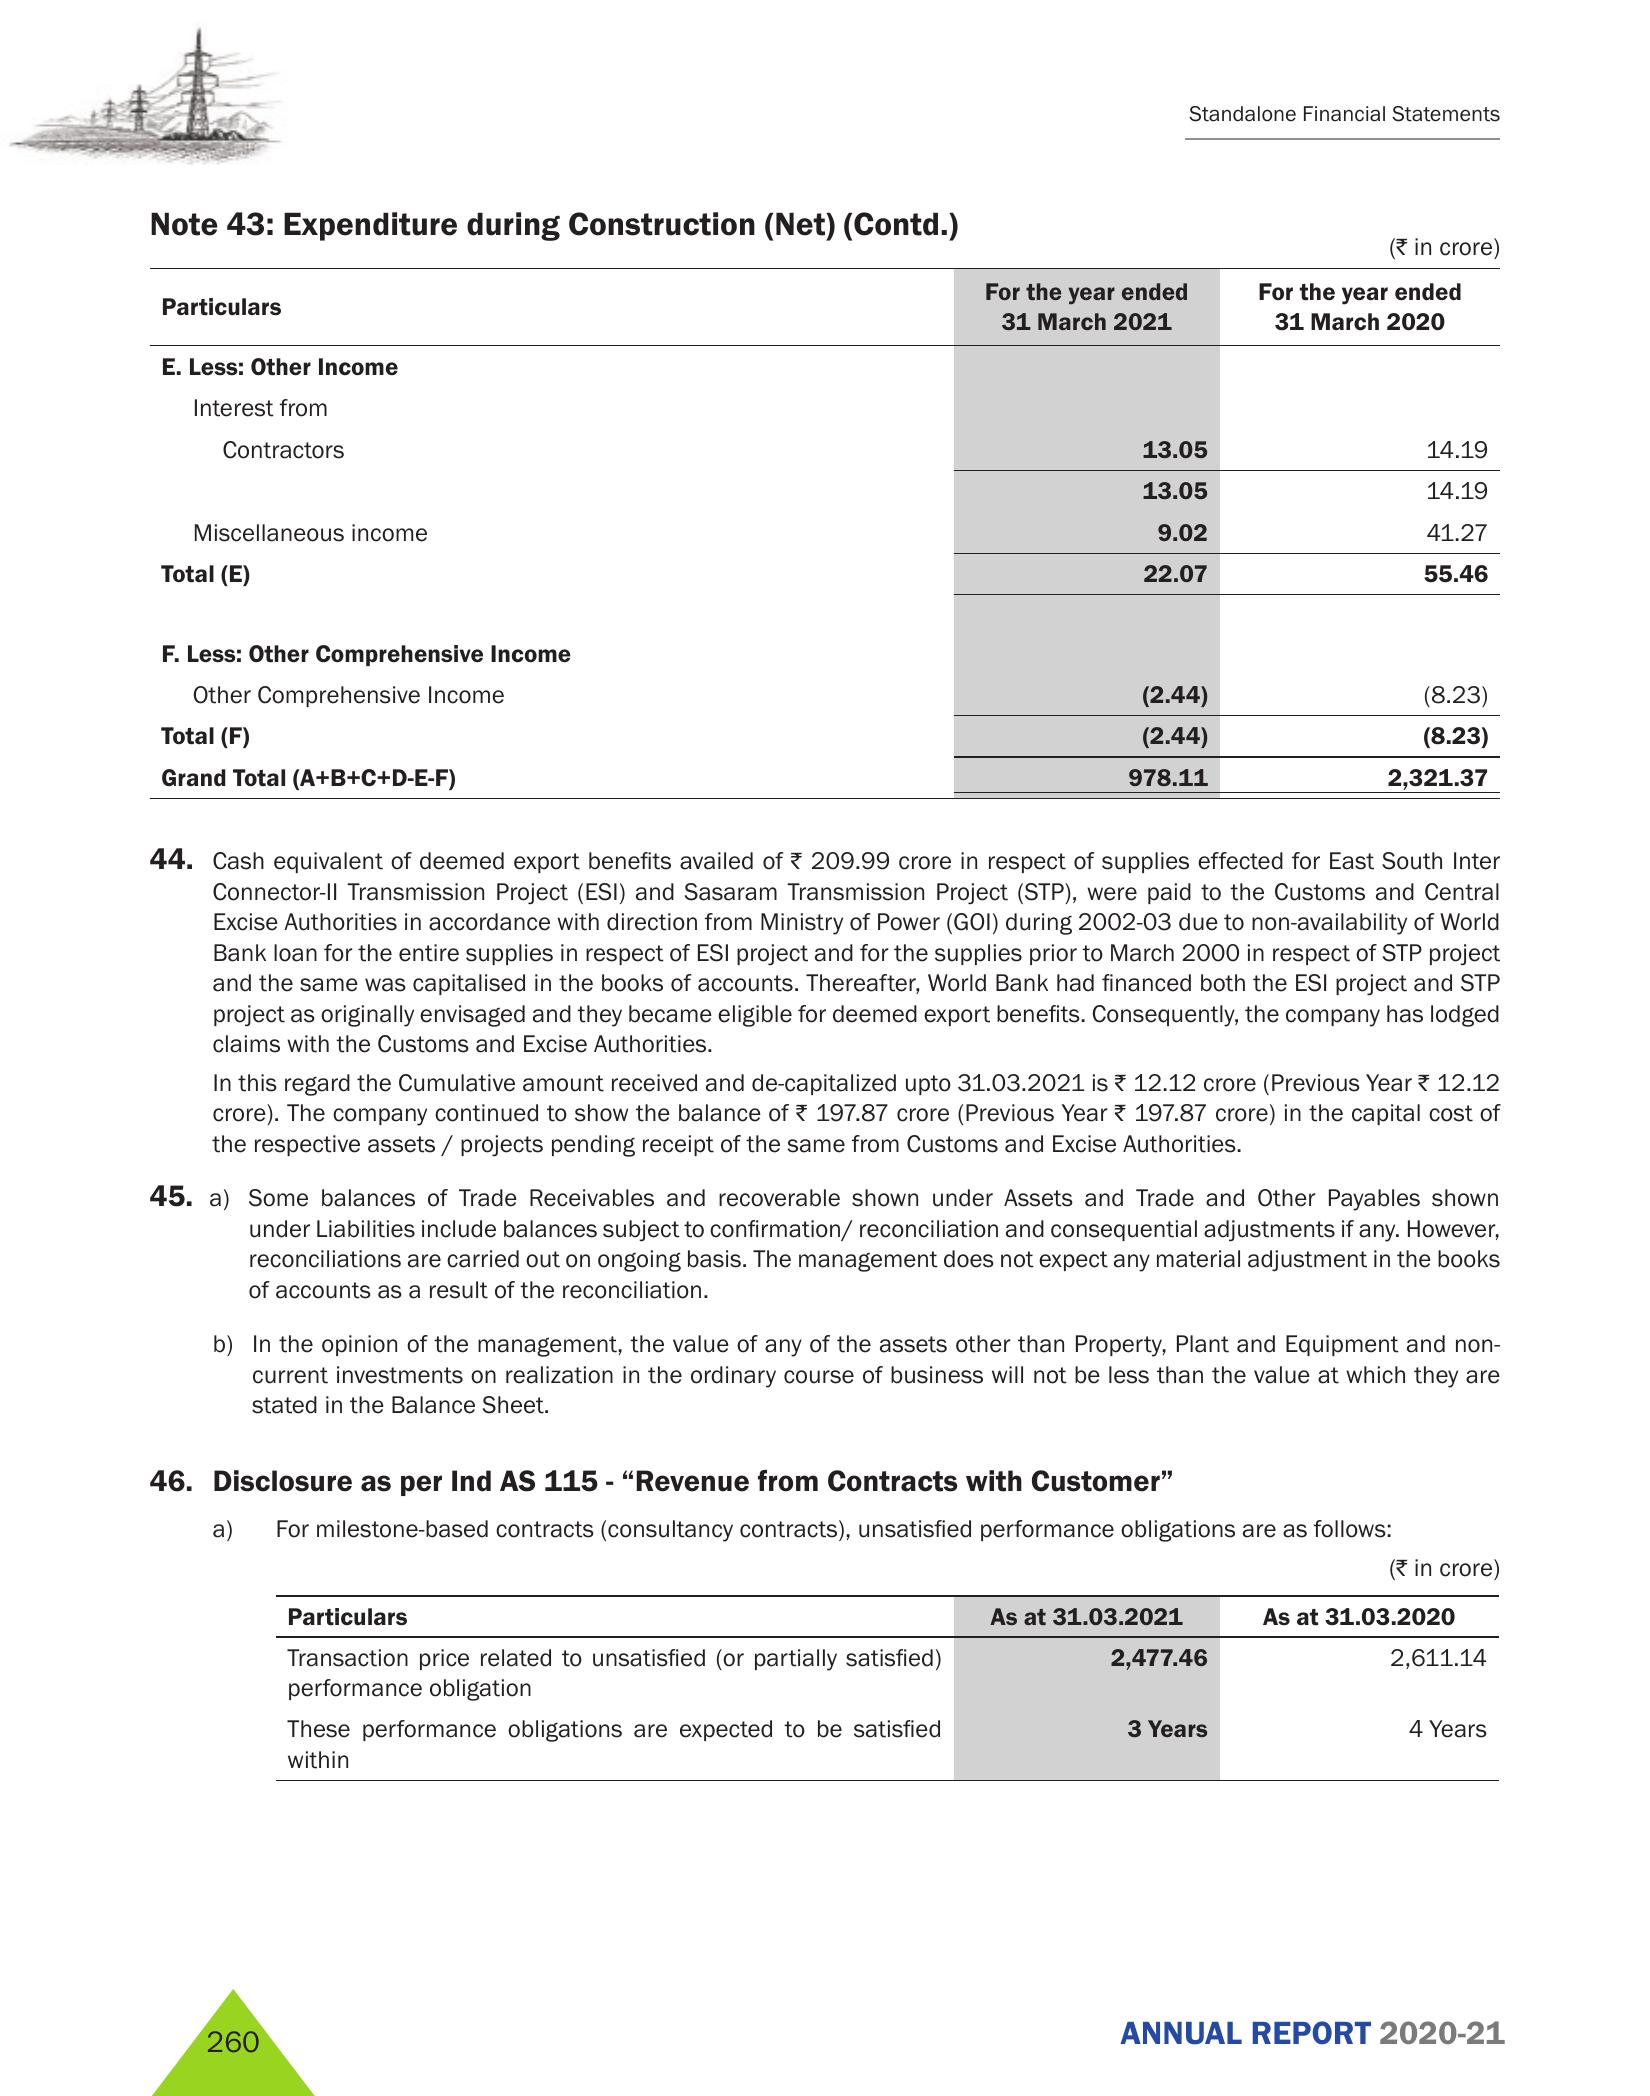Footer: (0, 1974, 1650, 2096)
Header: (0, 0, 1650, 175)
Table: (102, 271, 1524, 801), (236, 1581, 1516, 1798)
